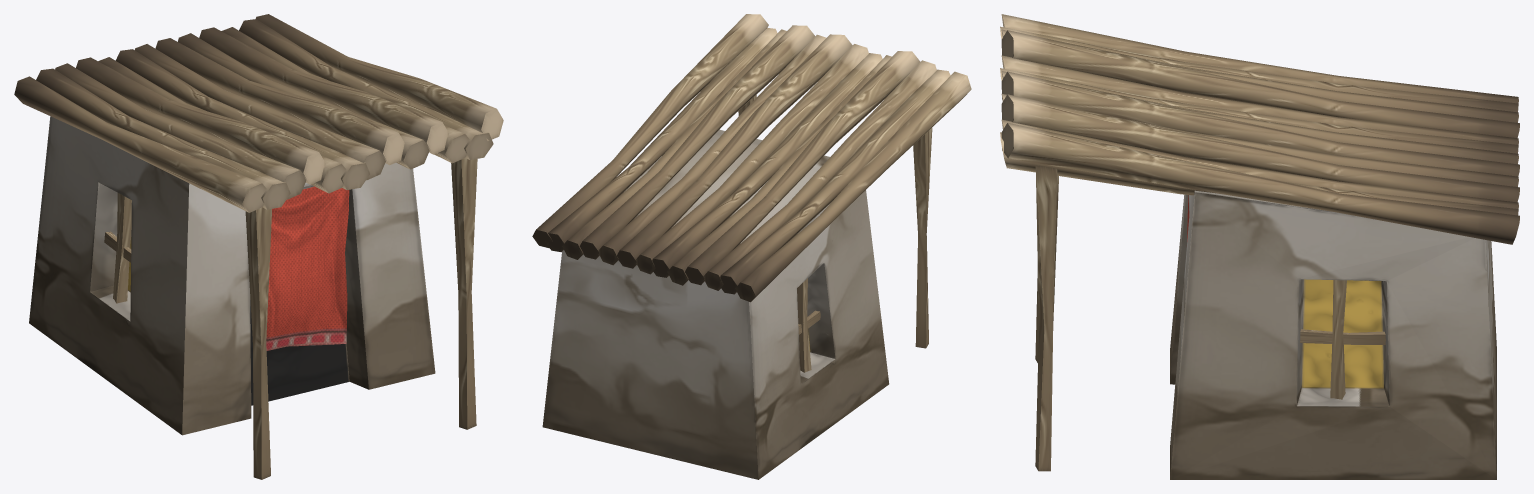
Rendered from Egypt_Village_Buildings_10.FBX.
3 renders of one model, left to right at view 1: azimuth 30°, elevation 25°; view 2: azimuth 150°, elevation 25°; view 3: azimuth 270°, elevation 25°, orthographic. The views are drawn at different scales.
Visible parts, largest first — view 1: Egypt_Village_Buildings_10; view 2: Egypt_Village_Buildings_10; view 3: Egypt_Village_Buildings_10.
Part boxes in pixels (x1,y1,x2,y2): Egypt_Village_Buildings_10: (14, 14, 503, 479); Egypt_Village_Buildings_10: (532, 14, 971, 479); Egypt_Village_Buildings_10: (1000, 14, 1519, 479).
Bounding box in the file's own units: 272 × 308 × 418.
